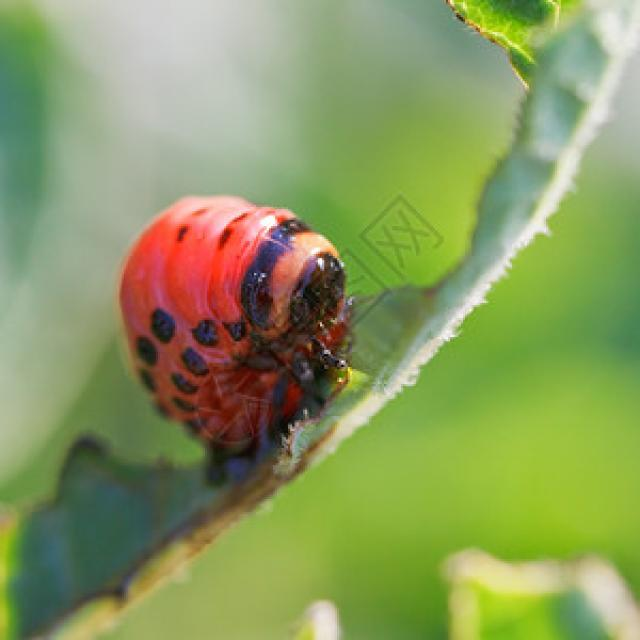ShuCaiHuaBanChong-Larva-: (109, 175, 371, 486)
